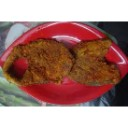seerfish: (2, 39, 70, 84), (71, 37, 120, 88)
